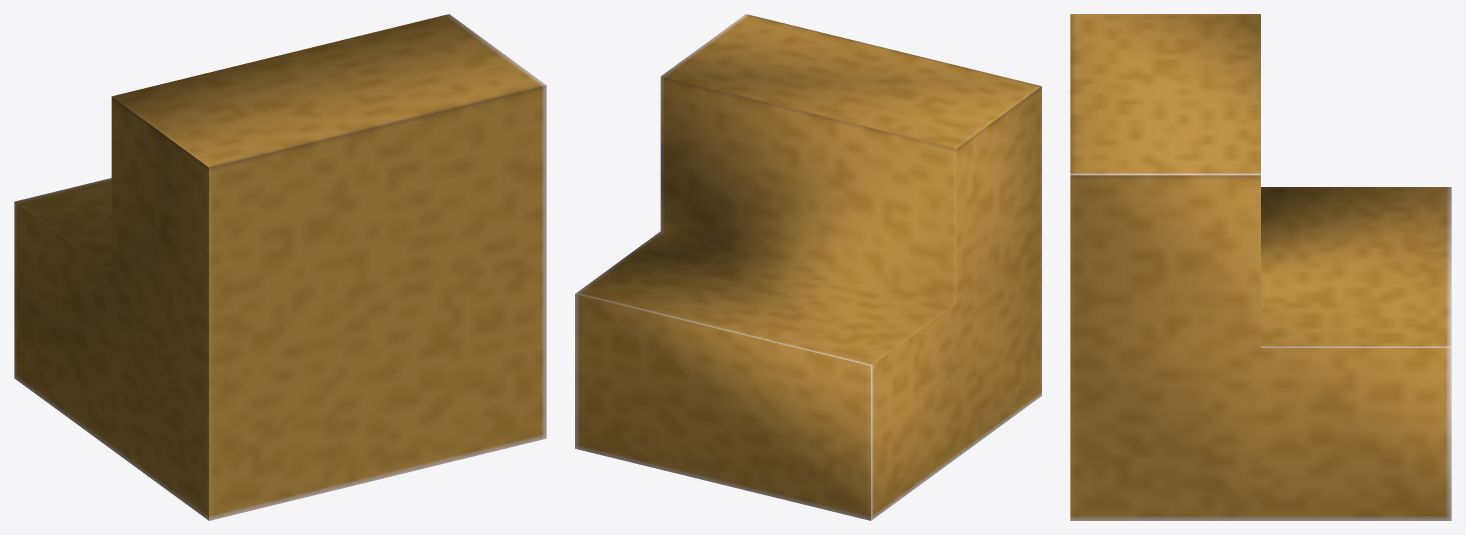
Rendered from bordebarcogriego.fbx.
3 views of the same model, side by side, from view 1: azimuth 30°, elevation 25°; view 2: azimuth 150°, elevation 25°; view 3: azimuth 270°, elevation 25° (orthographic). The views are drawn at different scales.
Visible parts, largest first — view 1: Cube; view 2: Cube; view 3: Cube.
Part boxes in pixels (box(x1,y1,x2,y2)): Cube: box(14, 14, 546, 520); Cube: box(575, 14, 1041, 520); Cube: box(1070, 14, 1451, 520).
Bounding box in the file's own units: 1 × 1 × 1.
1 material, 1 textured.
